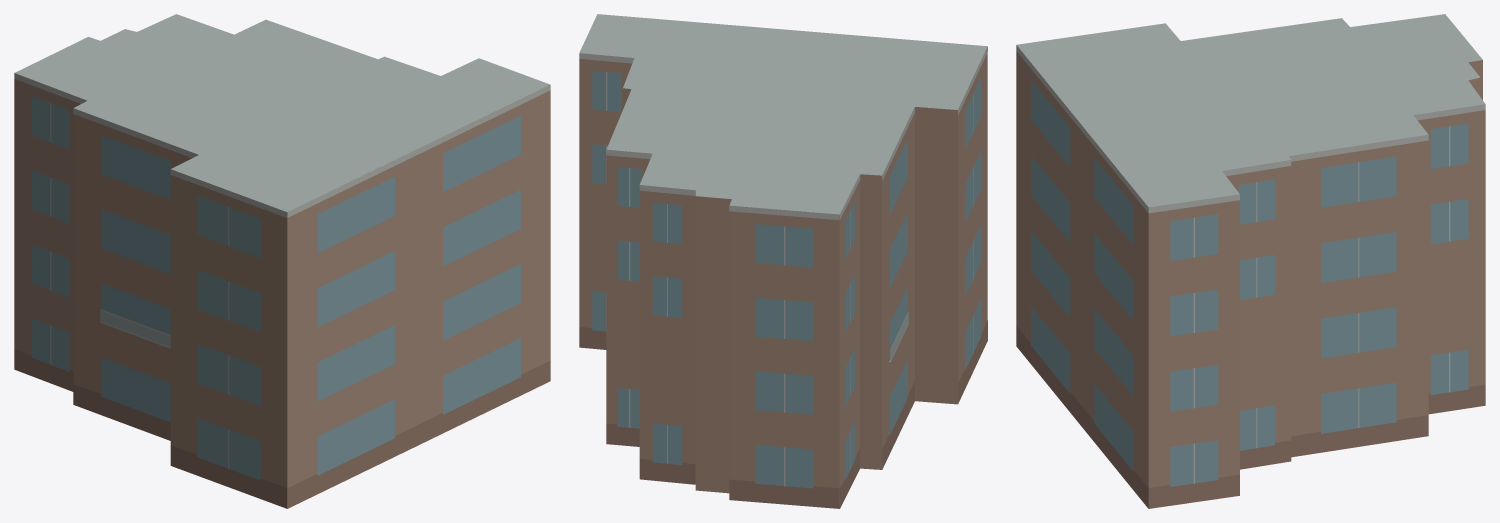
Rendered from survey-upis-32679722.glb.
3 views of the same model, side by side, from view 1: azimuth 30°, elevation 25°; view 2: azimuth 150°, elevation 25°; view 3: azimuth 270°, elevation 25° (orthographic). The views are drawn at different scales.
Parts seen in each view (by area): view 1: survey-upis-32679722.tmp; view 2: survey-upis-32679722.tmp; view 3: survey-upis-32679722.tmp.
Boxes of the visible parts, x1=… form: survey-upis-32679722.tmp: x1=14, y1=14, x2=550, y2=508; survey-upis-32679722.tmp: x1=579, y1=14, x2=987, y2=508; survey-upis-32679722.tmp: x1=1016, y1=14, x2=1485, y2=508.
Size of the model in its own units: 17.34 by 12.59 by 17.78.
